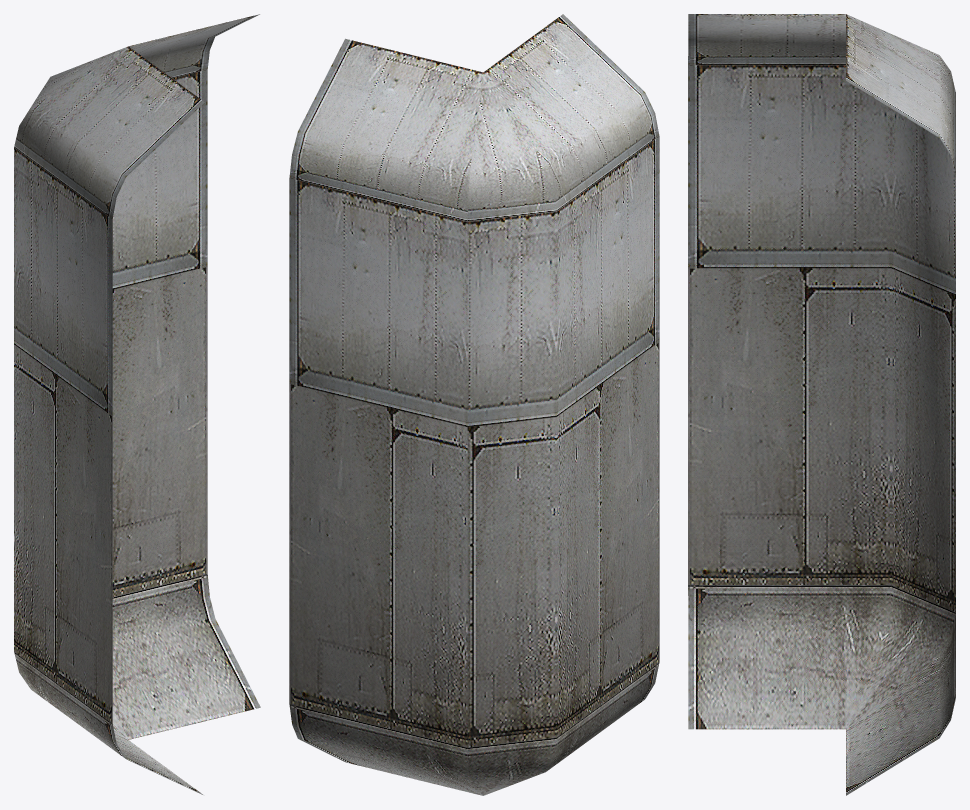
The model's file is Wall_F_Big4mts_06.fbx.
The picture shows the model from 3 angles, left to right: view 1: azimuth 30°, elevation 25°; view 2: azimuth 150°, elevation 25°; view 3: azimuth 270°, elevation 25°; orthographic projection. The views are drawn at different scales.
Parts seen in each view (by area): view 1: Wall_F_Big4mts_06; view 2: Wall_F_Big4mts_06; view 3: Wall_F_Big4mts_06.
Boxes of the visible parts, bbox=[...] form: Wall_F_Big4mts_06: bbox=[14, 14, 260, 794]; Wall_F_Big4mts_06: bbox=[289, 14, 659, 795]; Wall_F_Big4mts_06: bbox=[688, 14, 955, 795].
Bounding box in the file's own units: 339 × 1000 × 339.
